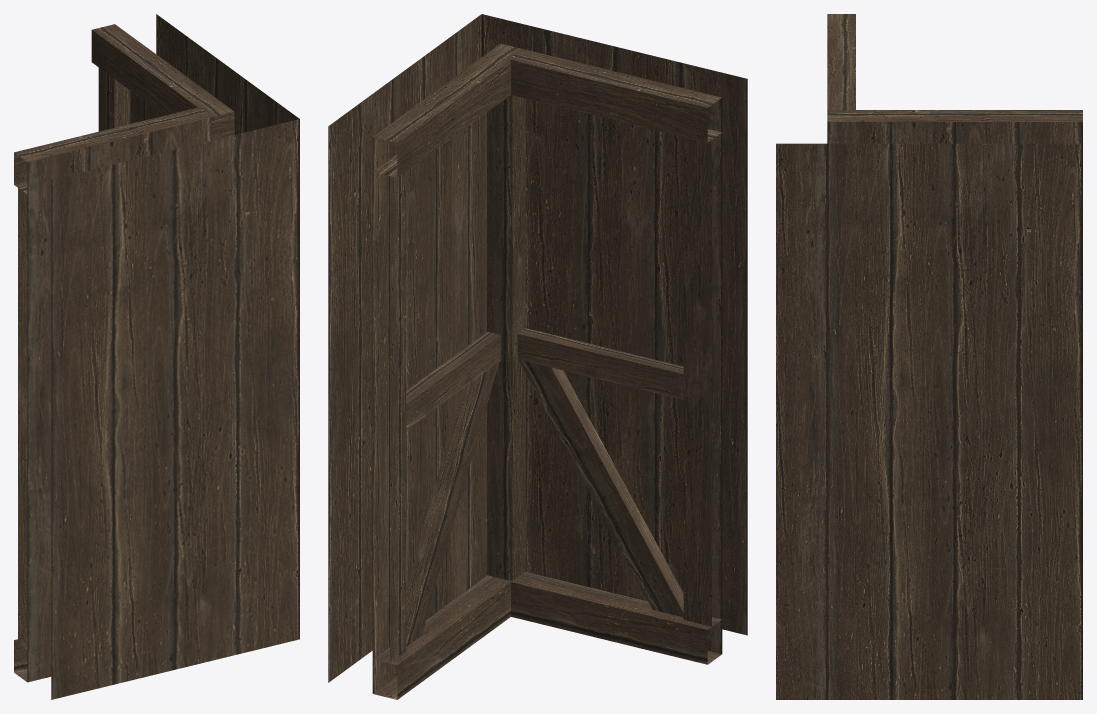
File: ARC1010320.fbx
The picture shows the model from 3 angles, left to right: view 1: azimuth 30°, elevation 25°; view 2: azimuth 150°, elevation 25°; view 3: azimuth 270°, elevation 25°; orthographic projection. The views are drawn at different scales.
Parts seen in each view (by area): view 1: smARC1010320; view 2: smARC1010320; view 3: smARC1010320.
Boxes of the visible parts, <box> form: smARC1010320: <box>14,14,299,699</box>; smARC1010320: <box>328,14,747,699</box>; smARC1010320: <box>776,14,1082,699</box>.
Size of the model in its own units: 134 by 268 by 134.
Materials: 1 (1 with a texture image).
